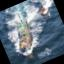fishing boat: (4, 7, 41, 58)
